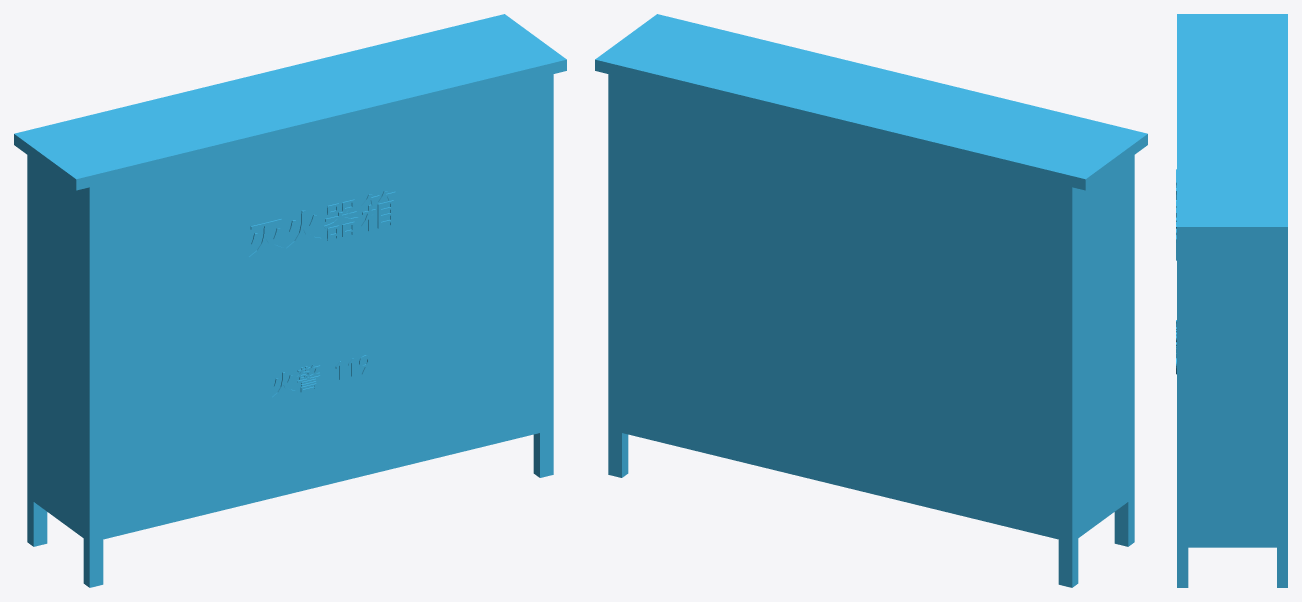
File: MieHuoQiXiang1.gltf
The picture shows the model from 3 angles, left to right: view 1: azimuth 30°, elevation 25°; view 2: azimuth 150°, elevation 25°; view 3: azimuth 270°, elevation 25°; orthographic projection. The views are drawn at different scales.
Size of the model in its own units: 1820 by 1460 by 404.
